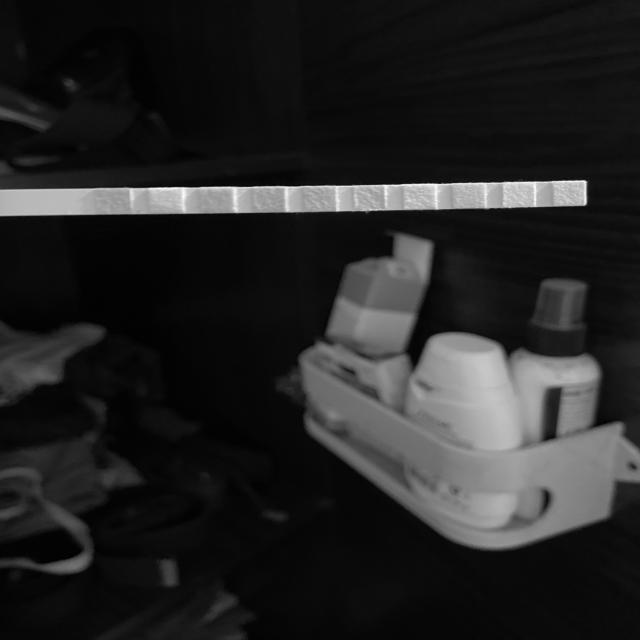Bilirubin: (150, 190, 183, 213)
Blood: (304, 186, 334, 211)
Glucose: (95, 189, 131, 214)
Ketone: (202, 188, 234, 213)
Leukocytes: (554, 182, 584, 206)
Nitrite: (504, 183, 535, 207)
Protein: (404, 184, 436, 210)
SpGravity: (255, 188, 287, 212)
Urobilinogen: (453, 184, 485, 208)
background: (0, 0, 640, 640)
pH: (356, 186, 386, 210)
strip: (0, 181, 587, 216)
